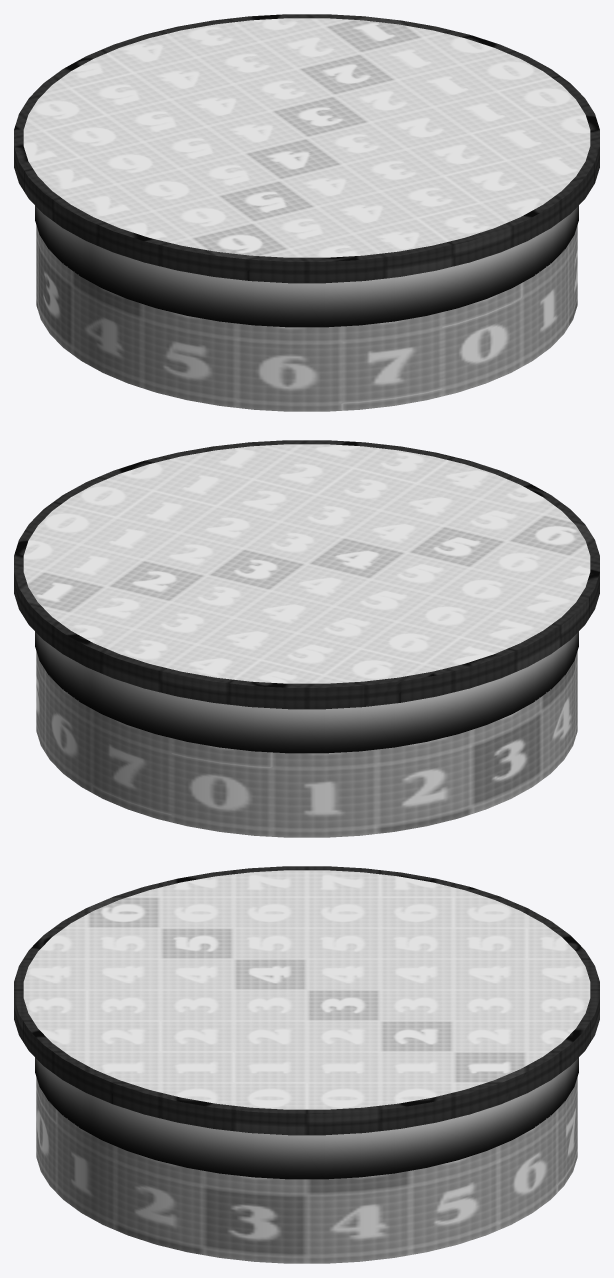
The model's file is Podium01_1.FBX.
3 renders of one model, top to bottom at view 1: azimuth 30°, elevation 25°; view 2: azimuth 150°, elevation 25°; view 3: azimuth 270°, elevation 25°, orthographic.
Parts seen in each view (by area): view 1: Podium, Backlight; view 2: Podium, Backlight; view 3: Podium, Backlight.
Boxes of the visible parts, x1=… form: Podium: x1=14, y1=14, x2=599, y2=411; Backlight: x1=35, y1=205, x2=578, y2=327; Podium: x1=14, y1=440, x2=599, y2=837; Backlight: x1=35, y1=631, x2=578, y2=753; Podium: x1=14, y1=866, x2=599, y2=1263; Backlight: x1=35, y1=1057, x2=578, y2=1179.
Size of the model in its own units: 250 by 75 by 250.
